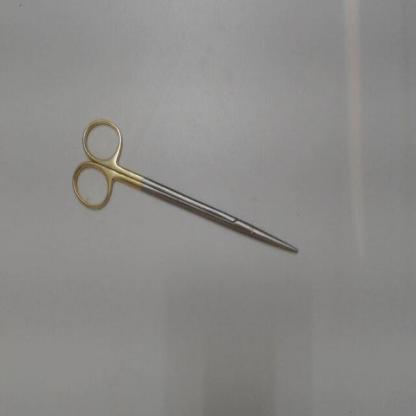7 Metzenbaum Scissors: (68, 111, 301, 256)
